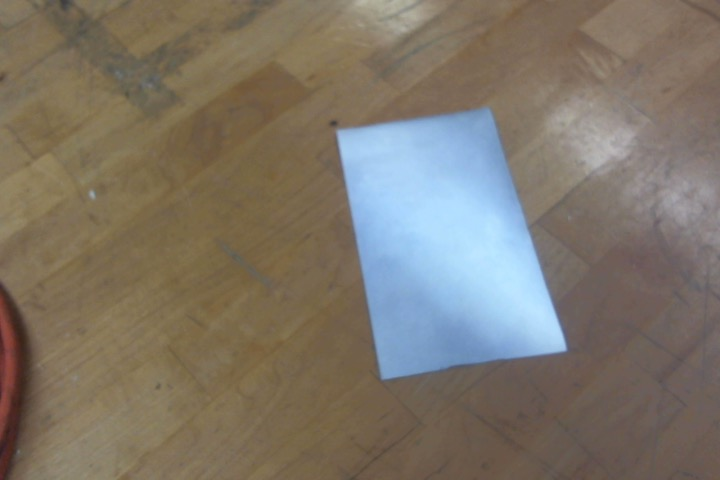Tape: (335, 108, 569, 381)
